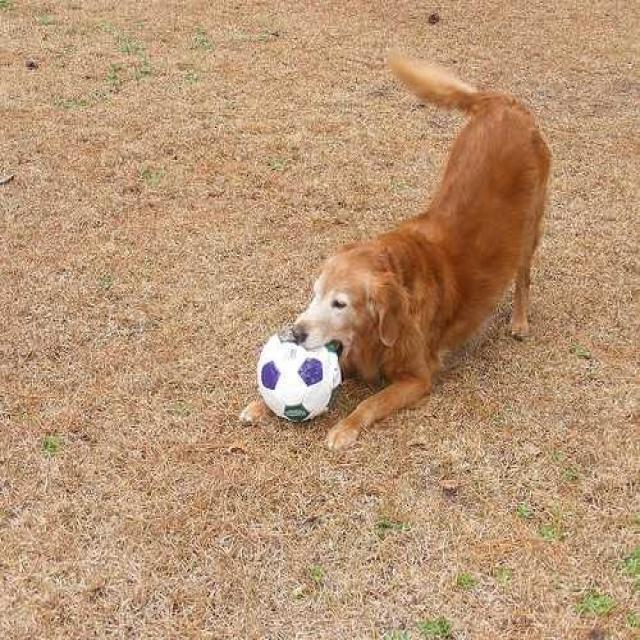ball: (259, 333, 341, 423)
